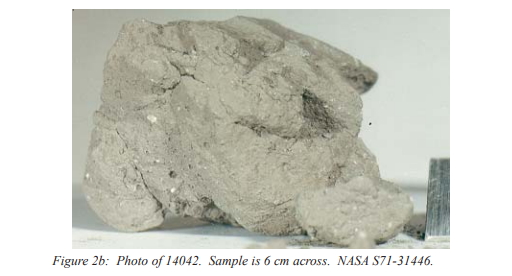Breccia: (69, 2, 437, 247)
